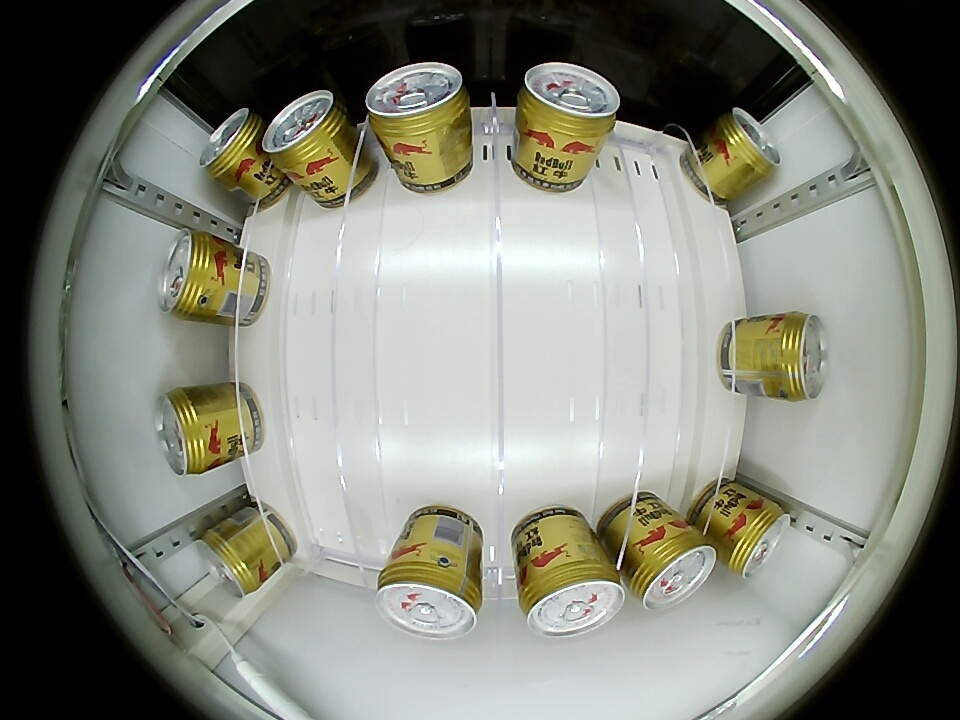hongniu2: (516, 554, 626, 638), (375, 555, 483, 640), (365, 63, 471, 145), (516, 63, 620, 144), (627, 526, 717, 611), (263, 90, 352, 171), (158, 229, 222, 320), (722, 498, 792, 578), (766, 311, 827, 402), (155, 388, 217, 477), (199, 107, 265, 184), (717, 107, 780, 180), (199, 525, 263, 596)
